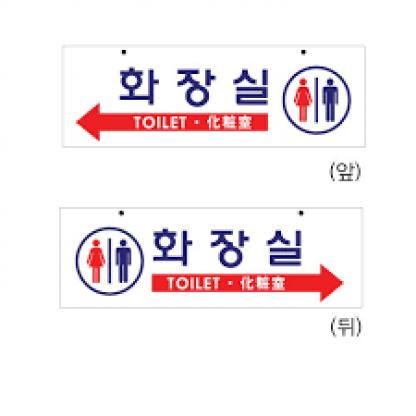toilet: (285, 67, 349, 133), (89, 233, 134, 287)
